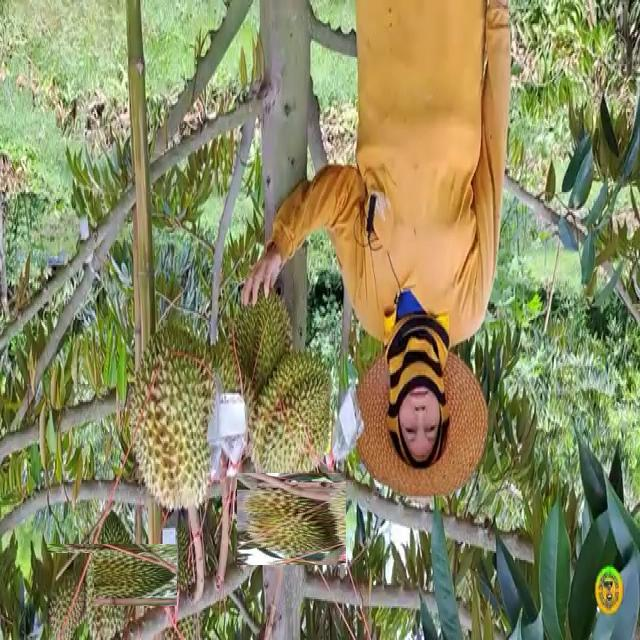durian: (130, 323, 222, 515), (243, 350, 338, 486), (230, 278, 298, 448), (242, 468, 342, 570), (64, 526, 160, 623), (46, 553, 94, 640)
